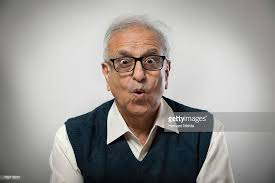Glasses: (105, 53, 166, 75)
